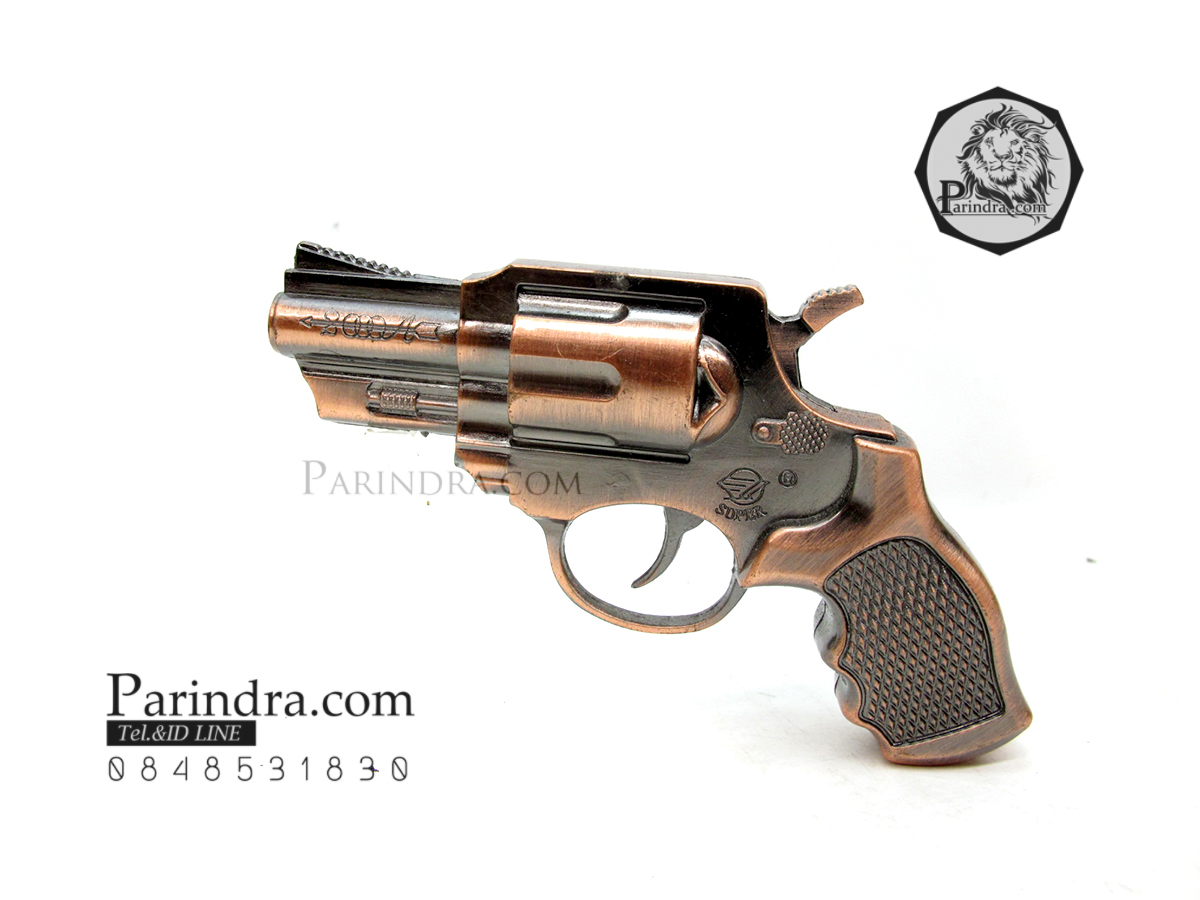gun: (255, 225, 1065, 781)
